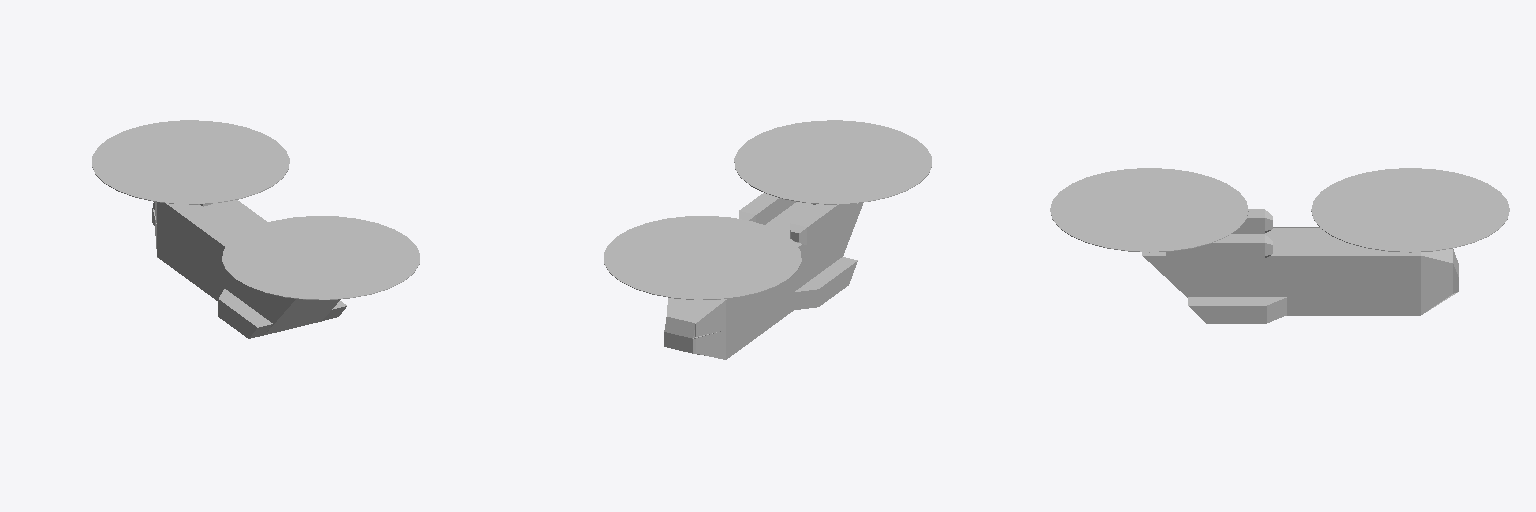
The model's file is Chinhook.obj.
3 renders of one model, left to right at view 1: azimuth 30°, elevation 25°; view 2: azimuth 150°, elevation 25°; view 3: azimuth 270°, elevation 25°, orthographic.
Visible parts, largest first — view 1: Chinhook; view 2: Chinhook; view 3: Chinhook.
Boxes of the visible parts, x1,y1,x2,y2 form: Chinhook: [92, 120, 419, 338]; Chinhook: [604, 120, 931, 359]; Chinhook: [1050, 168, 1509, 323].
Bounding box in the file's own units: 3 × 1.53 × 6.94.